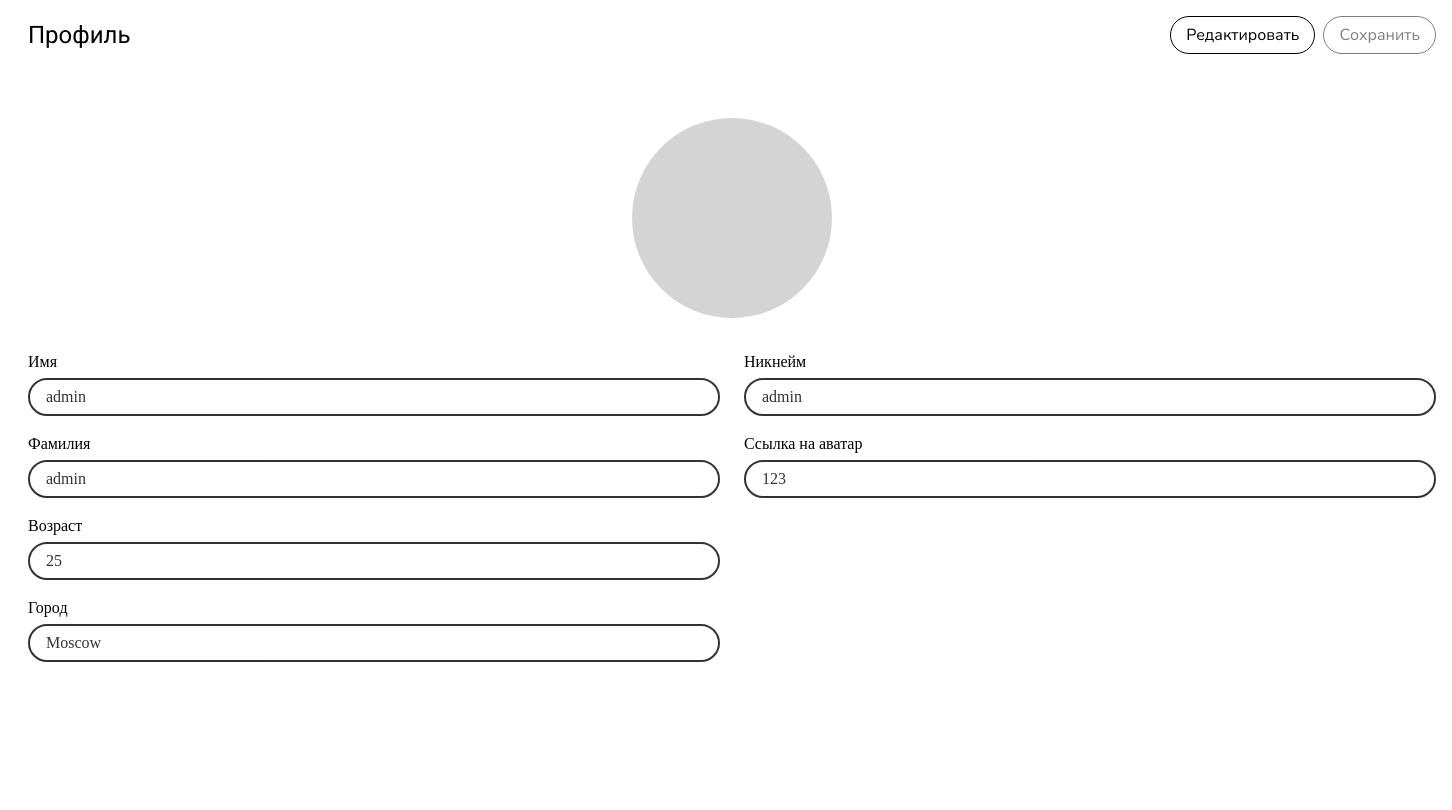
Scenario: widgets/Profile › Validate if required field is empty
Click the button "Редактировать".
click(1243, 35)  # box [1170,16,1315,54]
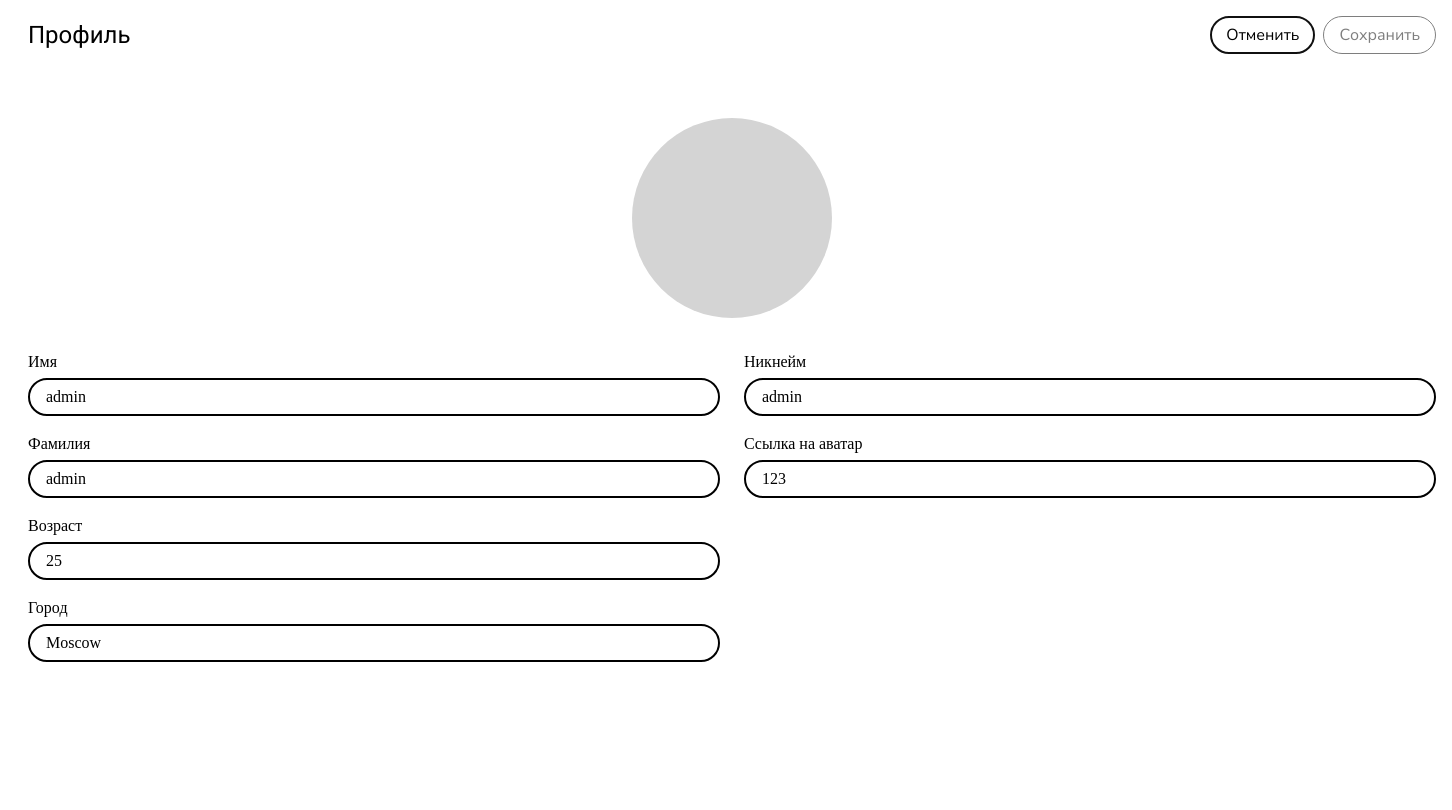
Clear the field below "Имя" at (374, 397), box [46,378,702,416]
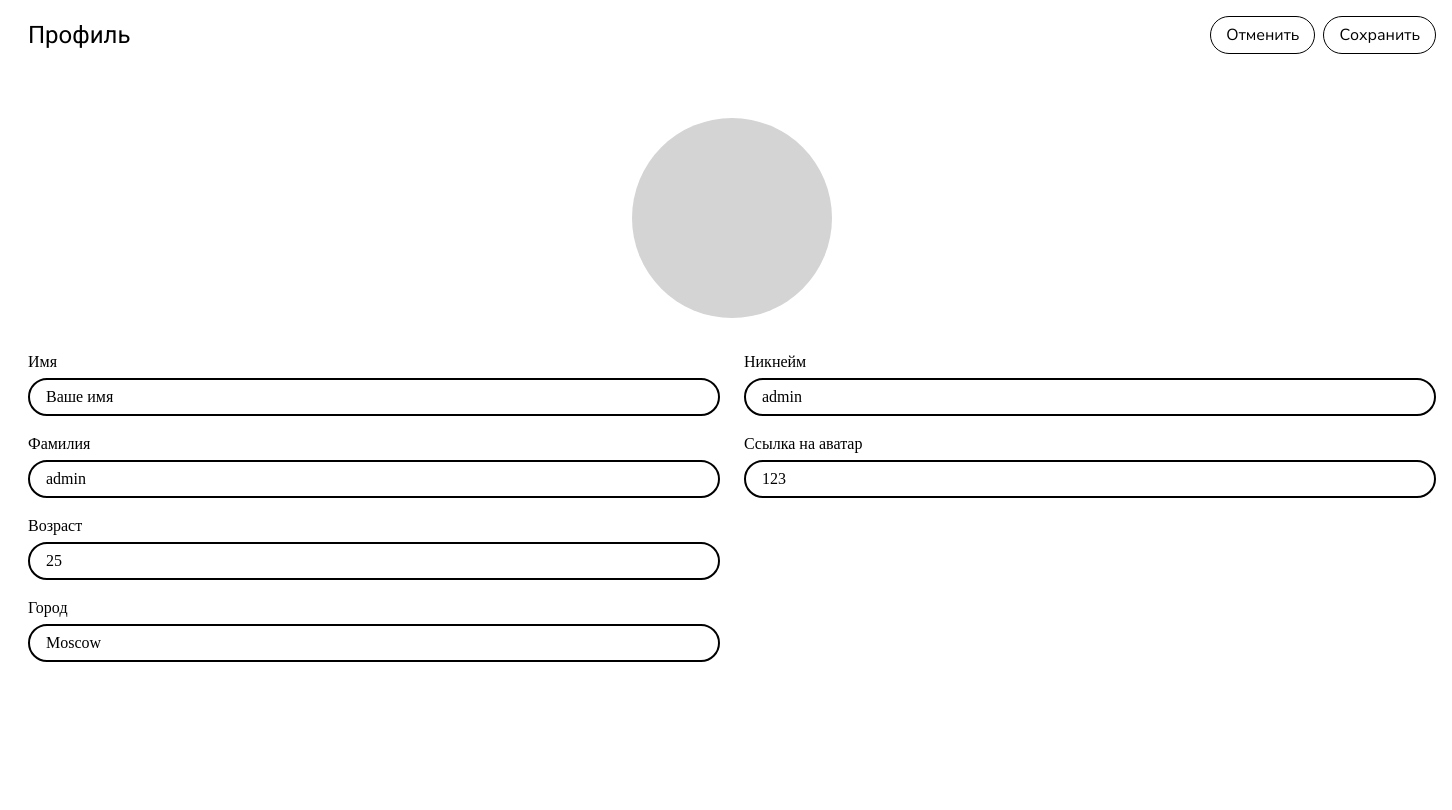
Click the button "Сохранить".
click(1380, 35)  # box [1323,16,1436,54]
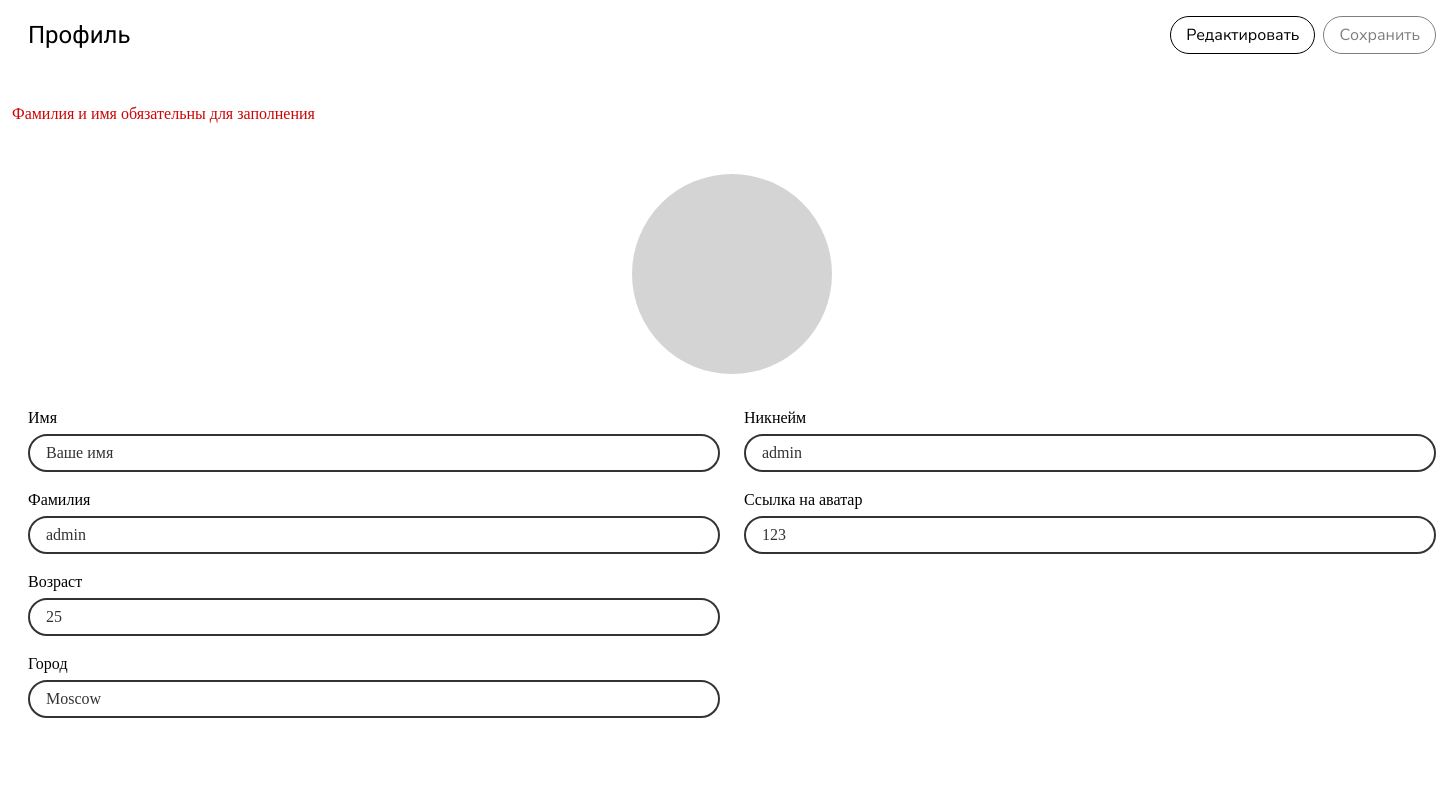
Now the text "Фамилия и имя обязательны для заполнения" is shown, box [12,105,315,122]
